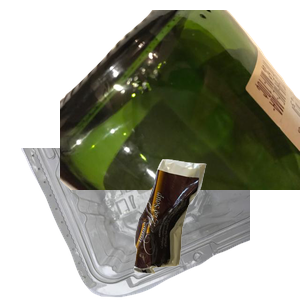cardboard: (67, 16, 295, 196)
glass: (60, 10, 300, 190)
plastic: (19, 148, 259, 300)
trash: (131, 157, 300, 300)
